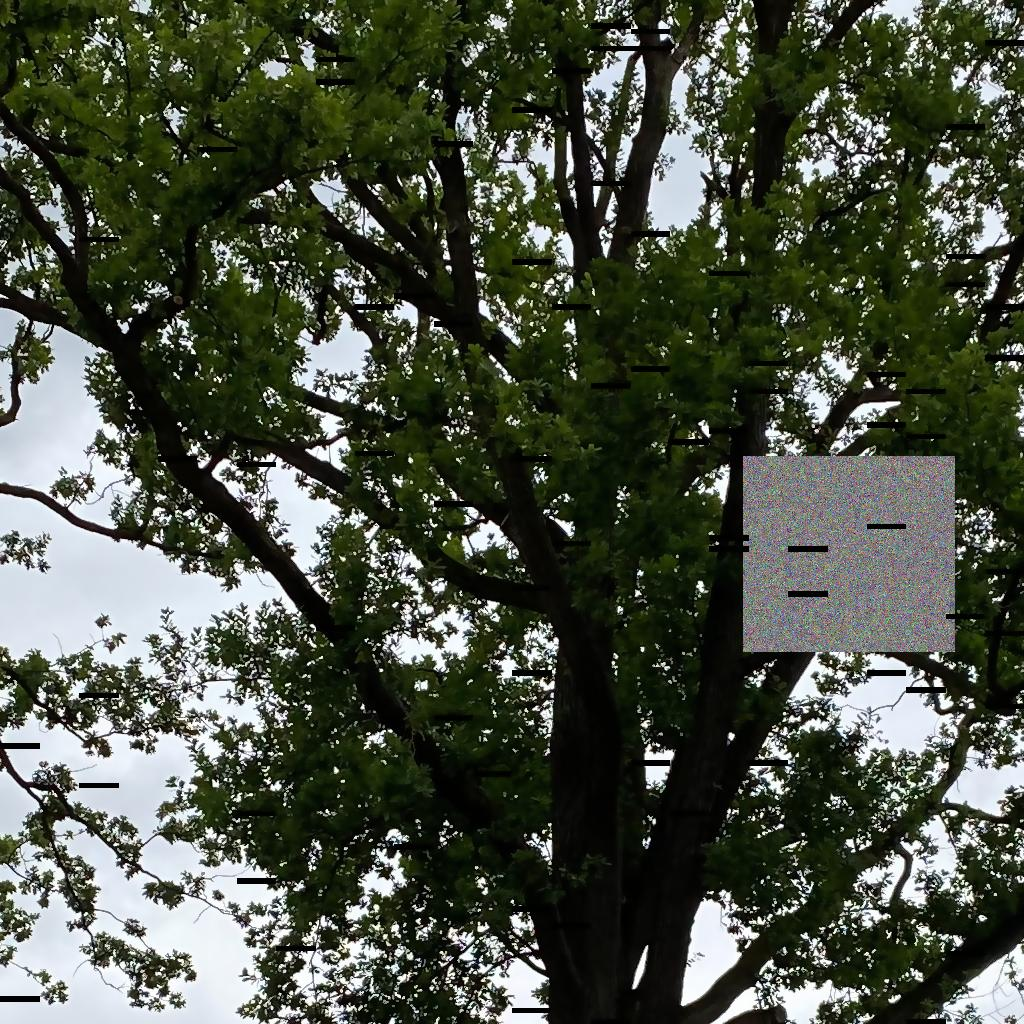tree: (1, 1, 1024, 1024)
